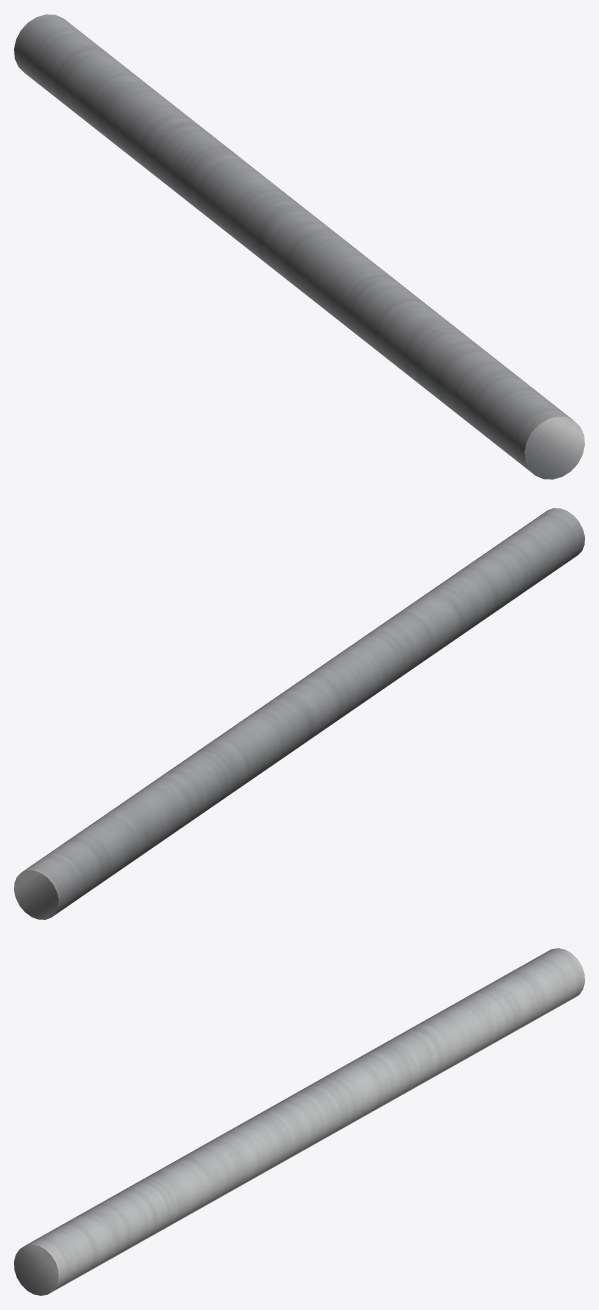
File: bar-3tap.fbx
3 renders of one model, top to bottom at view 1: azimuth 30°, elevation 25°; view 2: azimuth 150°, elevation 25°; view 3: azimuth 330°, elevation 25°, orthographic. The views are drawn at different scales.
Parts seen in each view (by area): view 1: pCylinder11; view 2: pCylinder11; view 3: pCylinder11.
Boxes of the visible parts, <box> form: pCylinder11: <box>14,14,584,479</box>; pCylinder11: <box>14,508,584,919</box>; pCylinder11: <box>14,948,584,1295</box>.
Bounding box in the file's own units: 6.94 × 5.22 × 54.46.
Materials: 1 (1 with a texture image).
